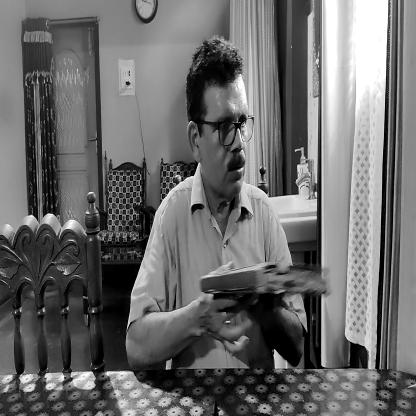Distracted: (184, 38, 252, 204)
